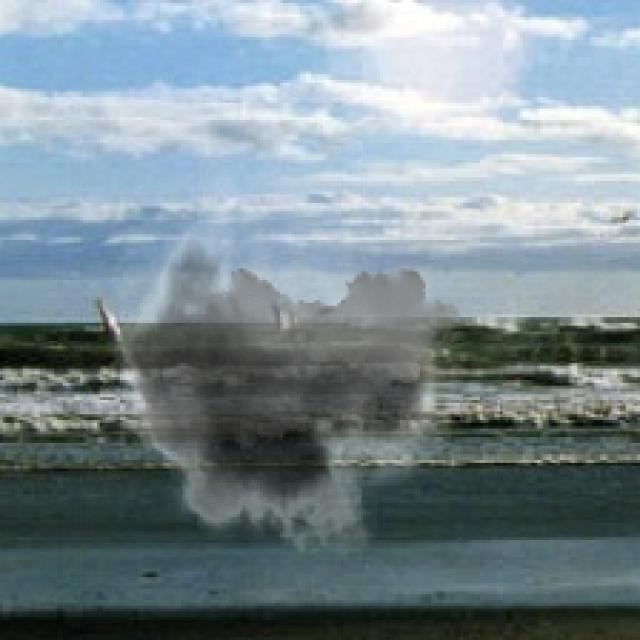smoke: (91, 157, 463, 574)
